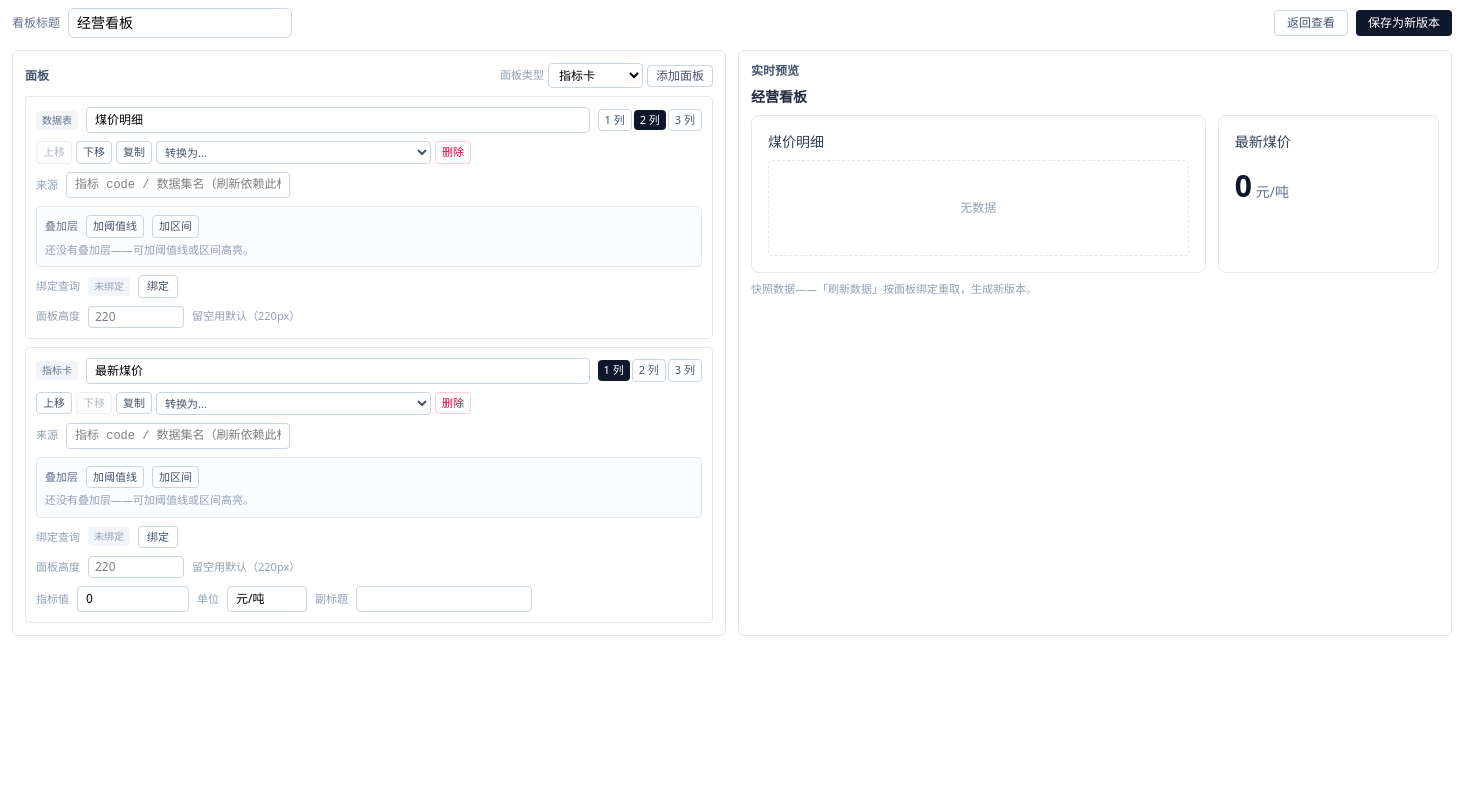
Test: DashboardEditor 绑定查询表单（wire-panel-query-binding 任务 2.1/2.2） › 未绑定：显示「未绑定」+「绑定」入口；绑定后展开表单并懒加载数据集列表
The width and height of the screenshot is (1464, 810).
Expected: the text with test id "editor-query-unbound" below "数据表" reads "未绑定", 94,279 -> 124,293
Click the button with test id "editor-query-bind" below "数据表": (158, 286) 138,275 -> 178,298
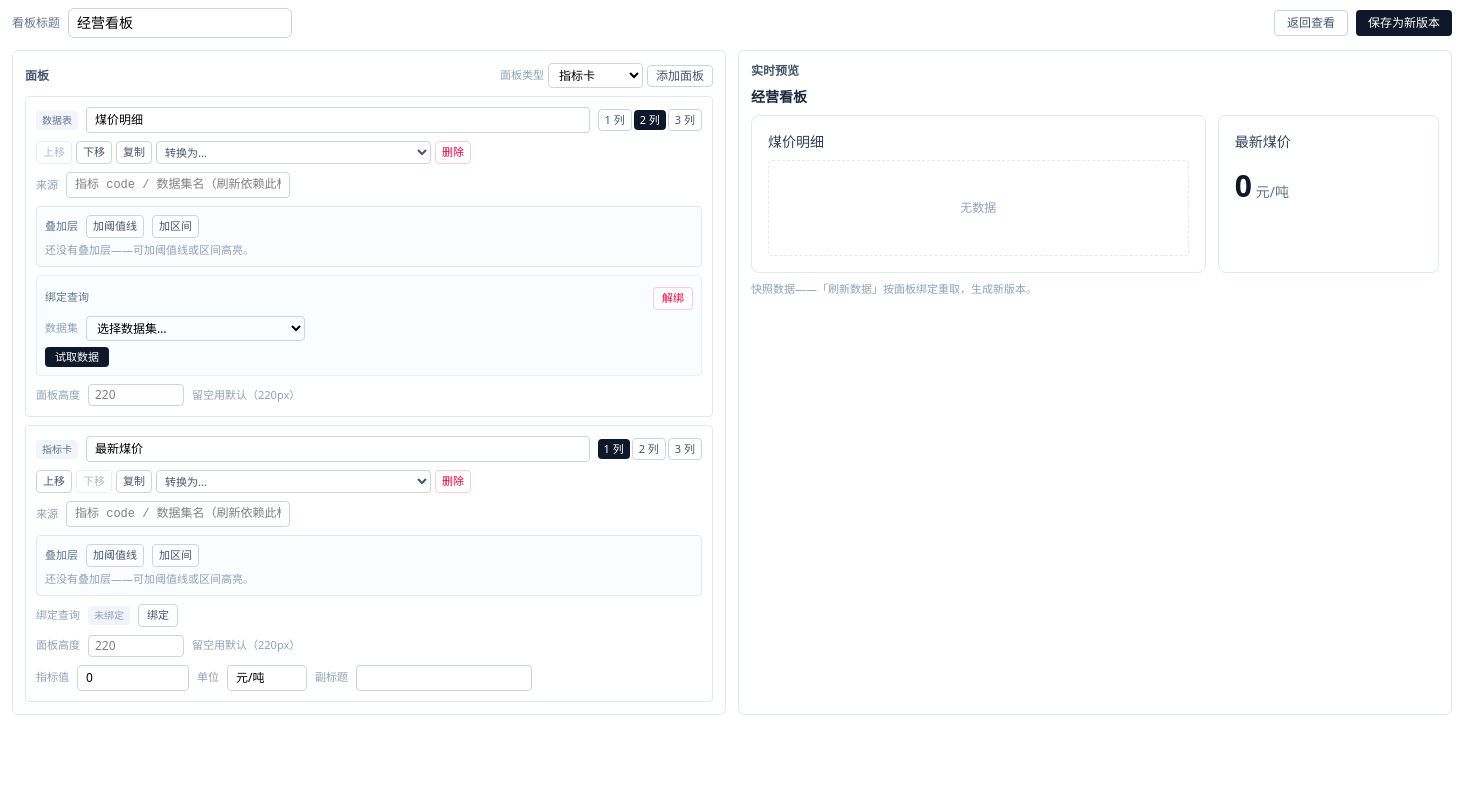
Note: kpi 面板：取值约定提示可见；table 面板无提示
Click the button with test id "editor-query-bind": (158, 615) 138,604 -> 178,626
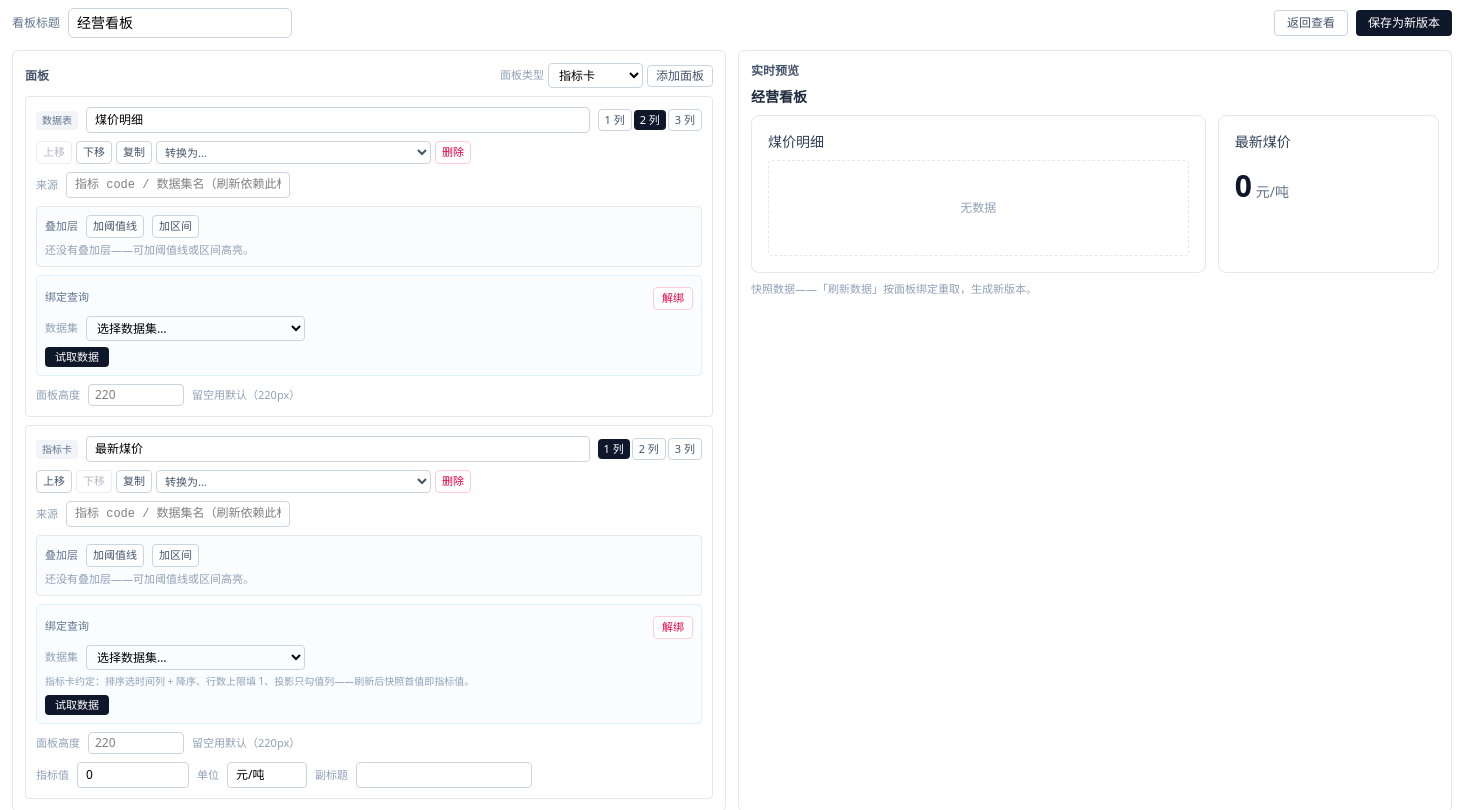
Expected: the text with test id "editor-query-kpi-hint" shows "指标卡约定", 45,674 -> 474,688
